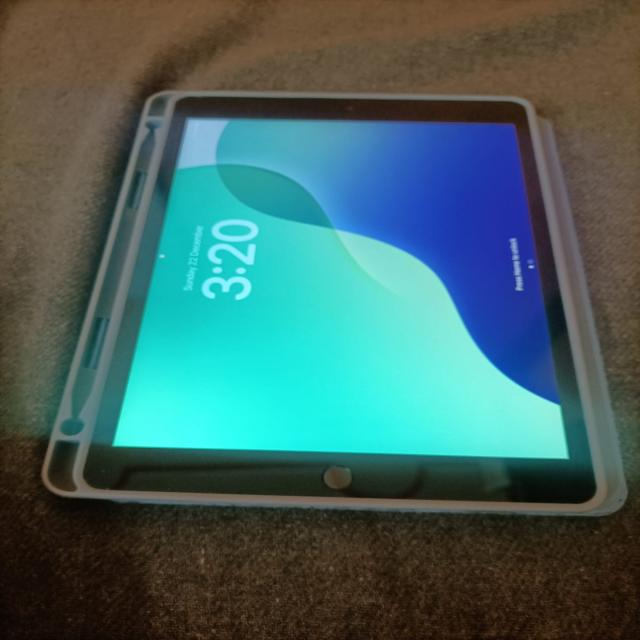tablet: (12, 4, 592, 564)
